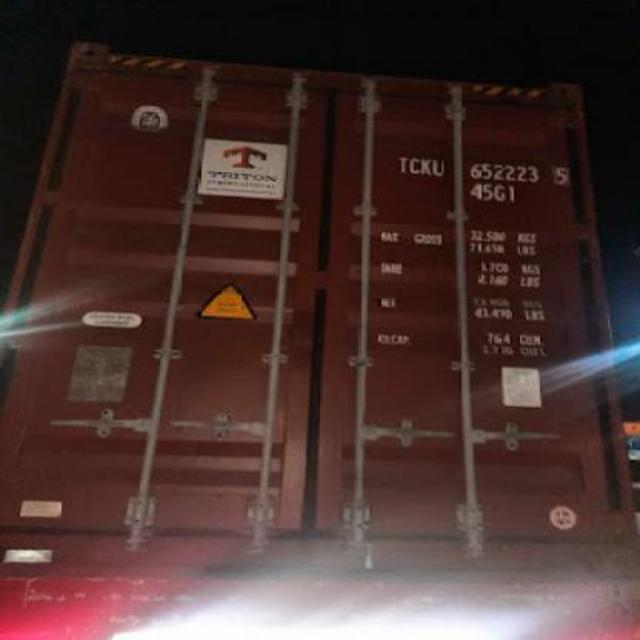2: (504, 160, 522, 188), (488, 157, 506, 183), (506, 158, 518, 186)
3: (528, 156, 544, 186)
5: (554, 162, 572, 188), (478, 157, 494, 183)
6: (466, 157, 479, 183)
C: (410, 149, 420, 181)
K: (420, 149, 430, 187)
T: (392, 148, 408, 176)
U: (430, 152, 448, 182)
